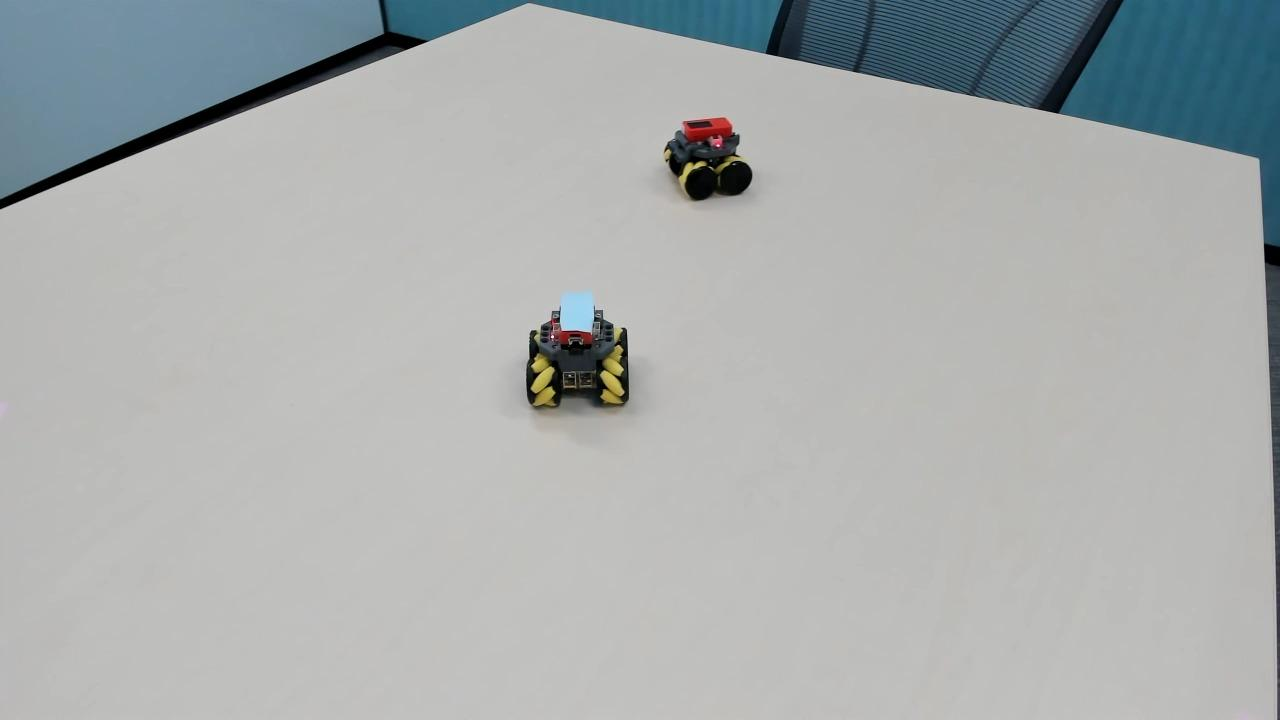B-Robot: (505, 280, 641, 432)
R-Robot: (655, 109, 756, 219)
